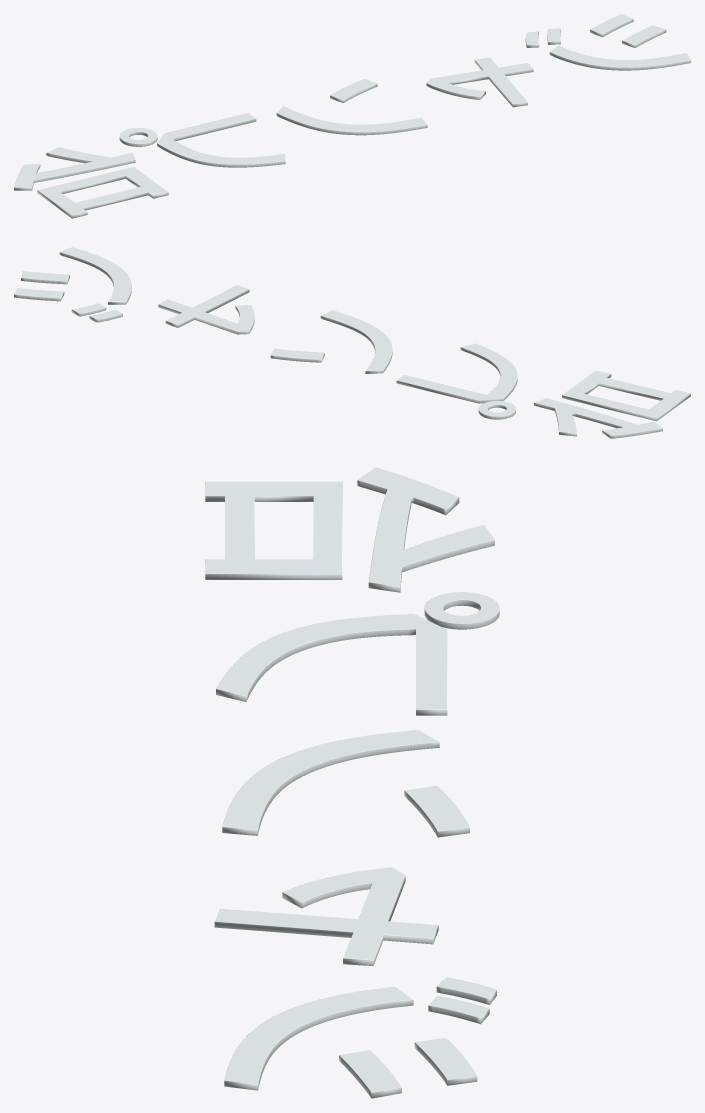
File: stage1_spring_pad_name.obj
The picture shows the model from 3 angles, top to bottom: view 1: azimuth 30°, elevation 25°; view 2: azimuth 150°, elevation 25°; view 3: azimuth 270°, elevation 25°; orthographic projection. The views are drawn at different scales.
Visible parts, largest first — view 1: stage1_spring_pad_name; view 2: stage1_spring_pad_name; view 3: stage1_spring_pad_name.
Boxes of the visible parts, x1,y1,x2,y2 form: stage1_spring_pad_name: [14, 14, 690, 218]; stage1_spring_pad_name: [14, 247, 690, 438]; stage1_spring_pad_name: [205, 467, 499, 1098].
Bounding box in the file's own units: 2.75 × 0.0124 × 0.5467.
1 material, 1 textured.
